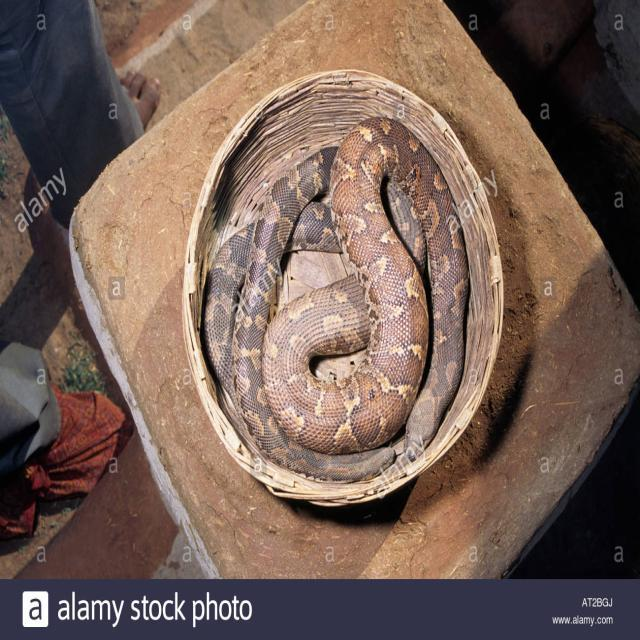Snake: (202, 114, 470, 492)
